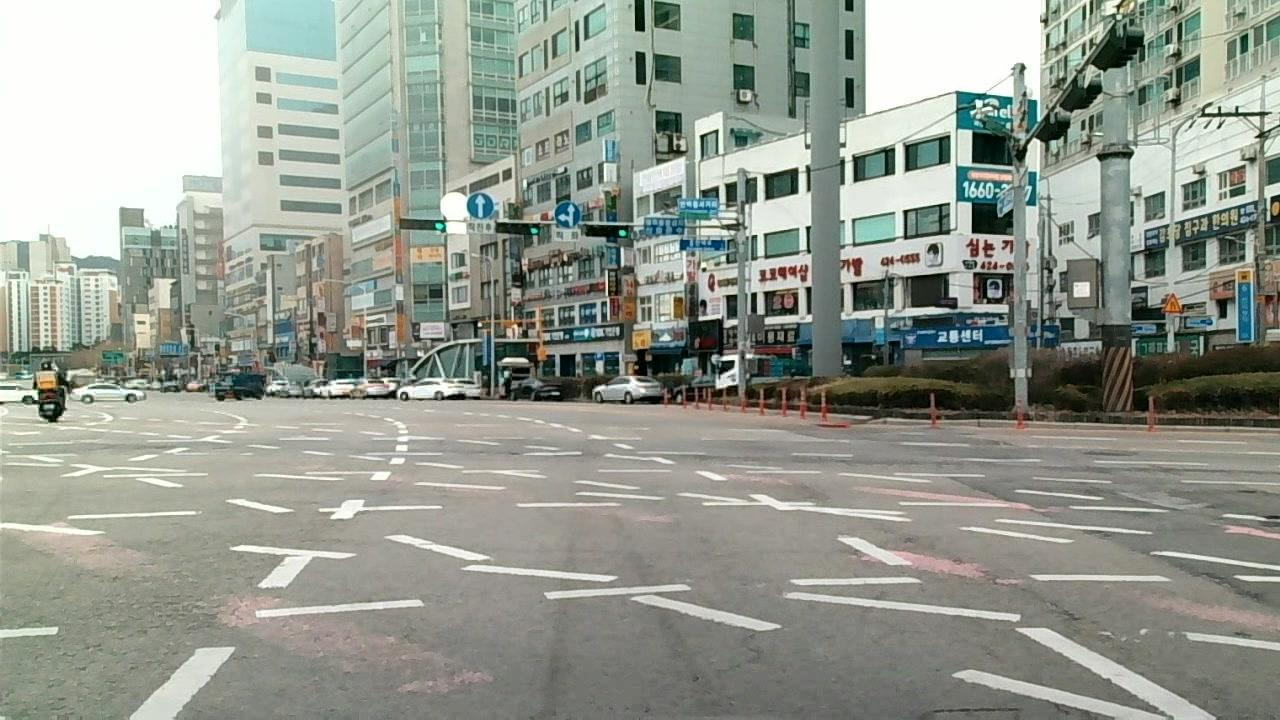banner: (976, 570, 1081, 621), (1161, 558, 1275, 604), (1031, 506, 1140, 551), (946, 469, 1006, 504)
